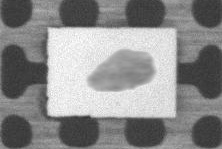DIE_INK: (86, 43, 155, 95)
